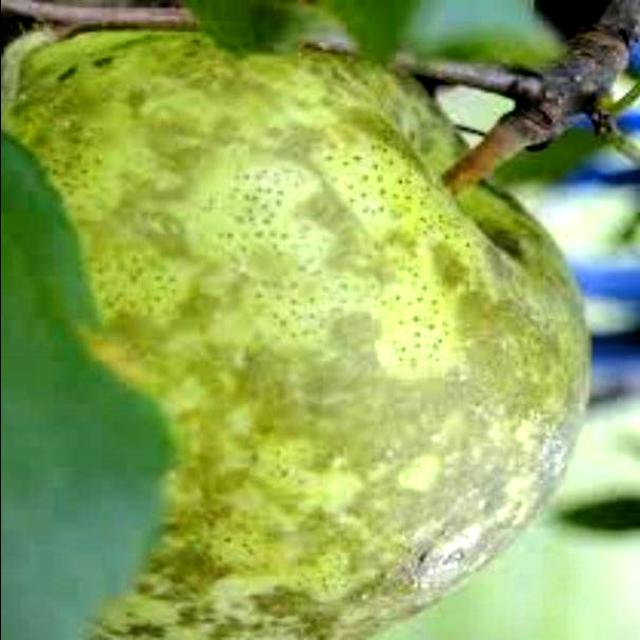BLOTCH: (5, 23, 616, 638)
